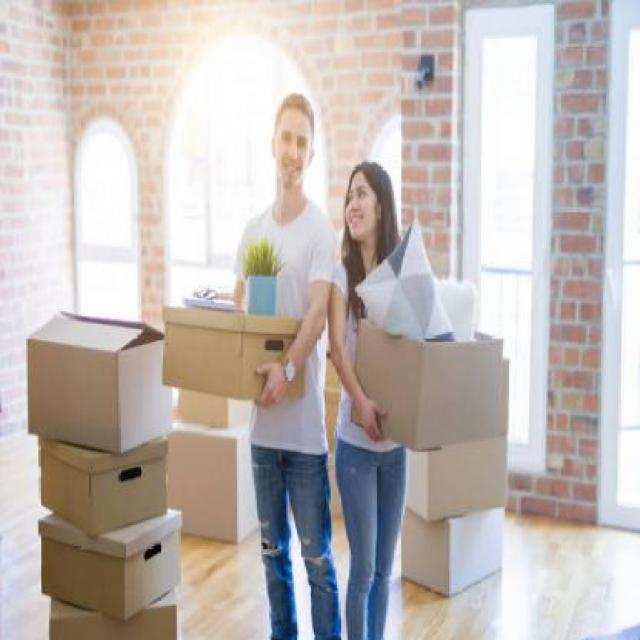box: (344, 318, 542, 472), (21, 292, 178, 460), (157, 258, 314, 423), (28, 508, 202, 628), (26, 433, 180, 539), (41, 591, 188, 640)
